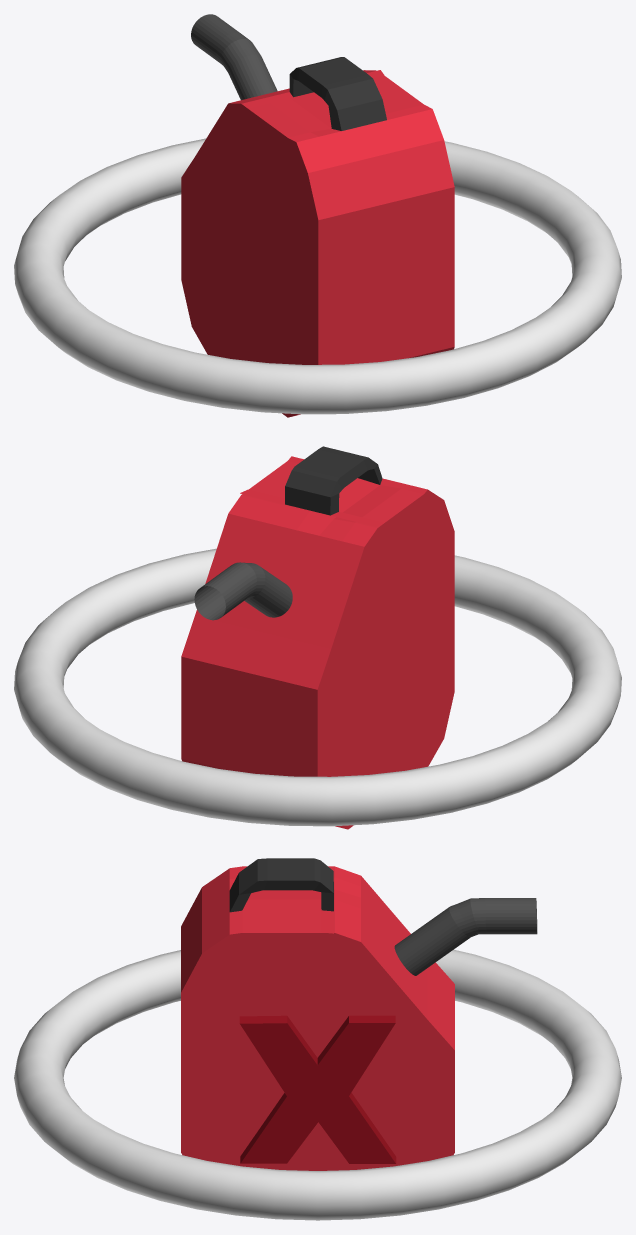
The model's file is FuelTankPolje2.fbx.
The picture shows the model from 3 angles, top to bottom: view 1: azimuth 30°, elevation 25°; view 2: azimuth 150°, elevation 25°; view 3: azimuth 270°, elevation 25°; orthographic projection.
Parts seen in each view (by area): view 1: FuelTank, Torus; view 2: FuelTank, Torus; view 3: FuelTank, Torus.
Part boxes in pixels (x1,y1,x2,y2): FuelTank: [181, 14, 454, 417]; Torus: [14, 138, 621, 414]; FuelTank: [181, 446, 454, 829]; Torus: [14, 548, 621, 826]; FuelTank: [181, 858, 537, 1170]; Torus: [14, 949, 621, 1220].
Size of the model in its own units: 196 by 111 by 196.
